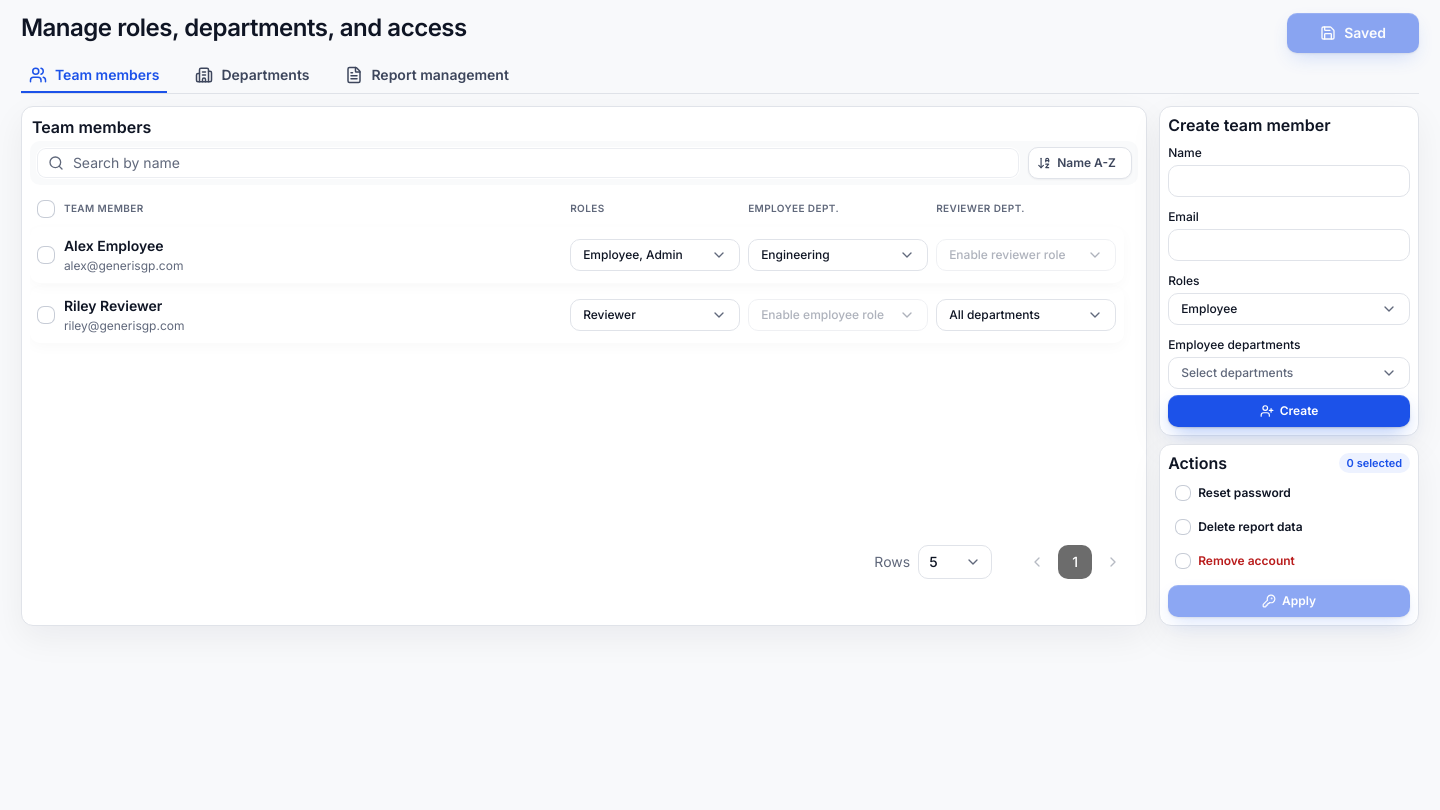
AdminUsers › presents admin management with employee, reviewer, and admin role controls
This screenshot has width=1440, height=810.
Expected: the heading "Manage roles, departments, and access" is shown, [21, 13, 467, 43]
Expected: the heading "Team members" is shown, [32, 117, 151, 137]
Click the button with aria-label "Roles for Alex Employee" at (655, 255), box [570, 239, 740, 271]
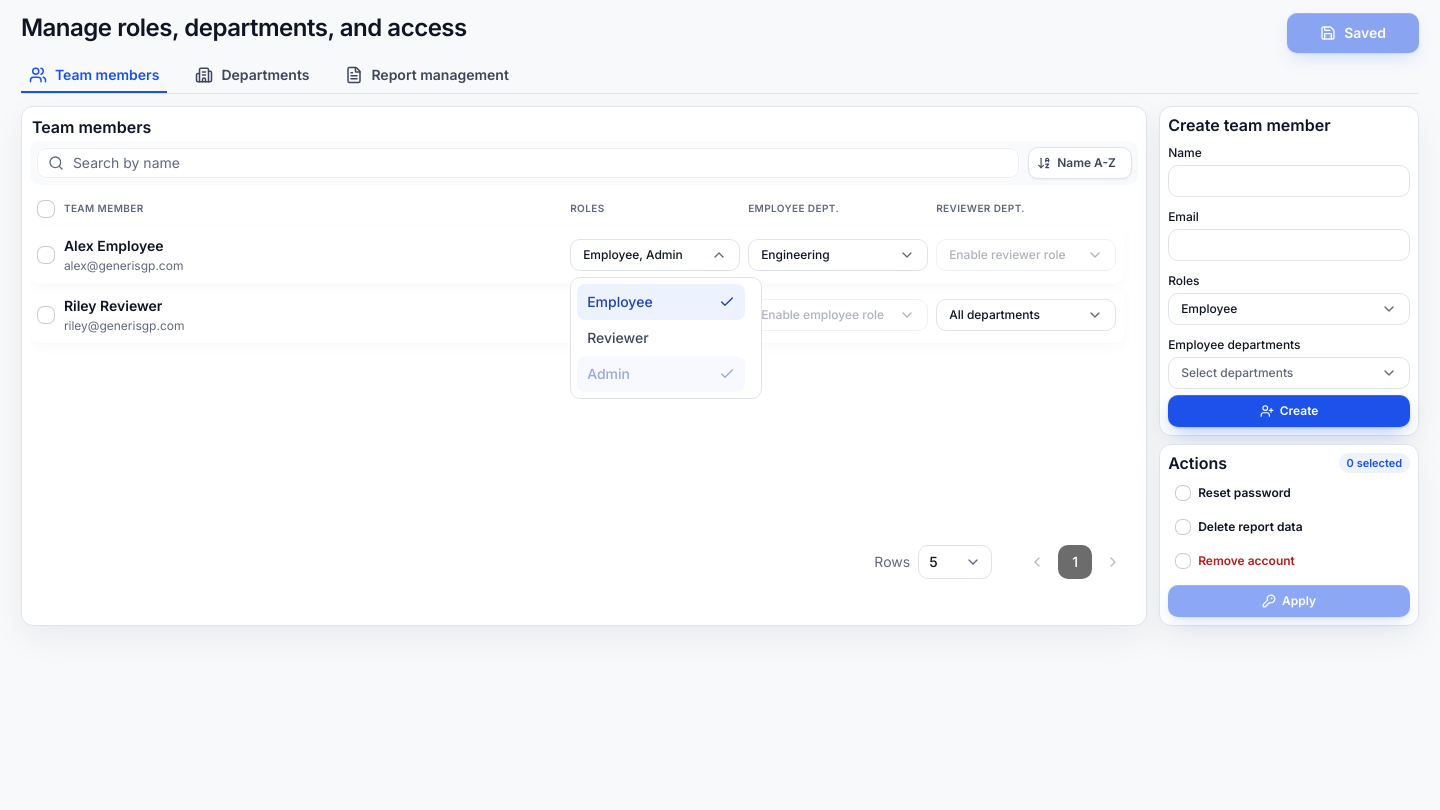
Result: the option "Admin" is shown at [577, 356, 745, 392]
